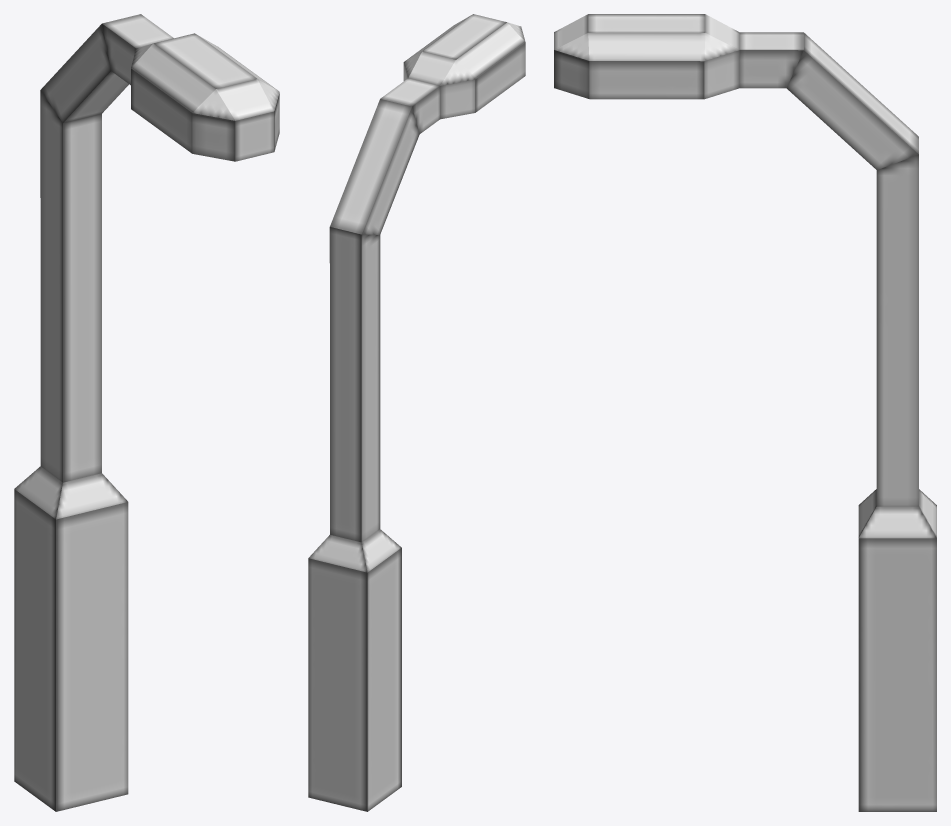
The model's file is Lamp-01.fbx.
3 renders of one model, left to right at view 1: azimuth 30°, elevation 25°; view 2: azimuth 150°, elevation 25°; view 3: azimuth 270°, elevation 25°, orthographic. The views are drawn at different scales.
Visible parts, largest first — view 1: Lamp_01; view 2: Lamp_01; view 3: Lamp_01.
Boxes of the visible parts, bbox=[...] form: Lamp_01: bbox=[14, 14, 279, 811]; Lamp_01: bbox=[308, 14, 525, 811]; Lamp_01: bbox=[554, 14, 936, 811].
Bounding box in the file's own units: 0.1607 × 1.45 × 0.6507.
